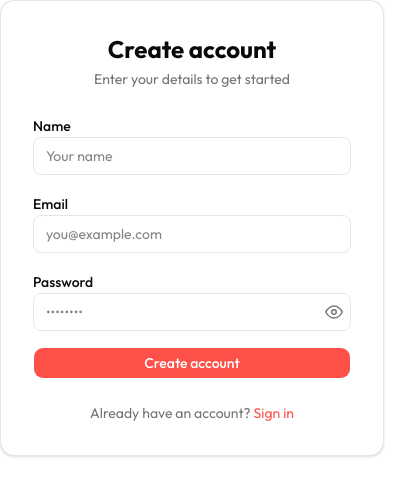
Test case: RegisterForm › shows Zod validation error for invalid email
Type "Tim" into the field labelled "Name".
click(192, 156); type("Tim")  # box [33,137,351,175]
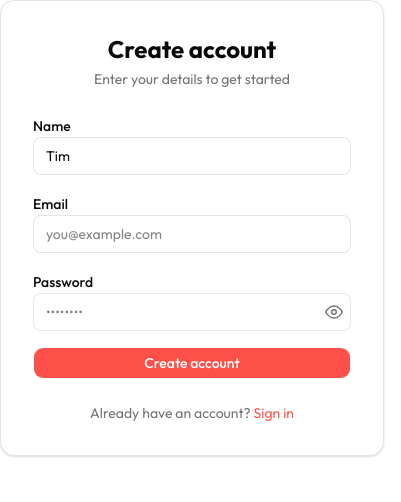
Type "not-an-email" into the field labelled "Email".
click(192, 234); type("not-an-email")  # box [33,215,351,253]
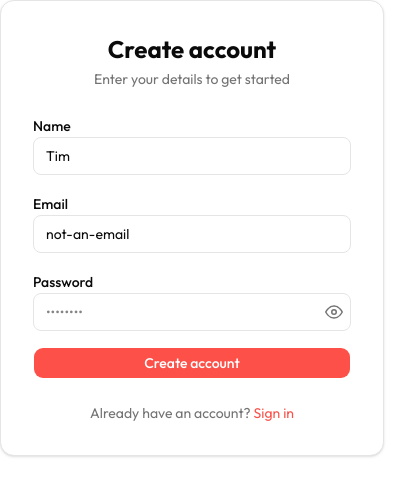
Type "password123" into the password field labelled "Password".
click(192, 312); type("password123")  # box [33,293,351,331]
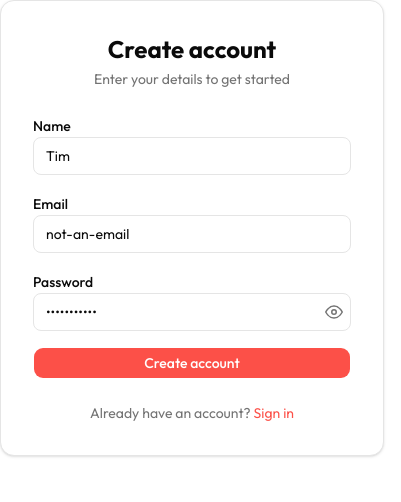
Submit the form "Name Email Password Create account", box [33,113,351,379]
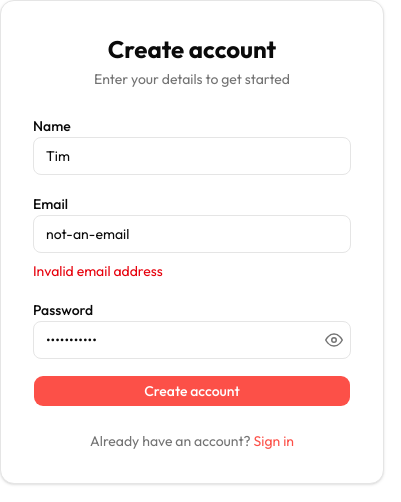
Now the text "Invalid email address" is shown, box [33,262,163,280]
